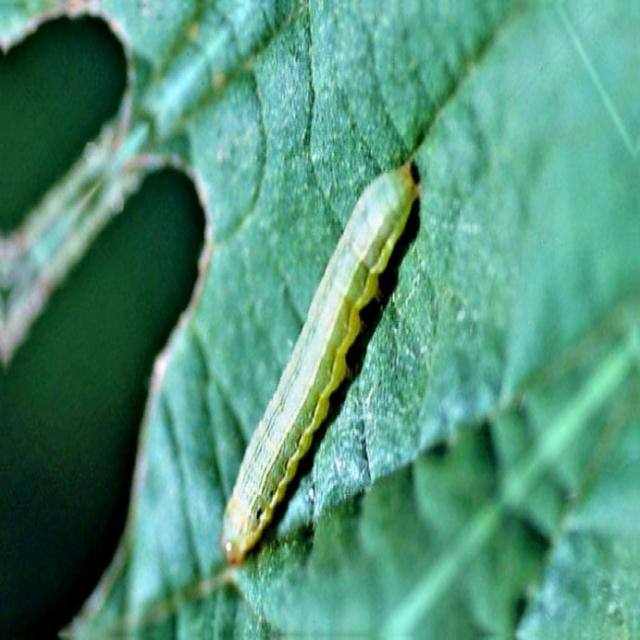Armyworm: (210, 136, 437, 610)
